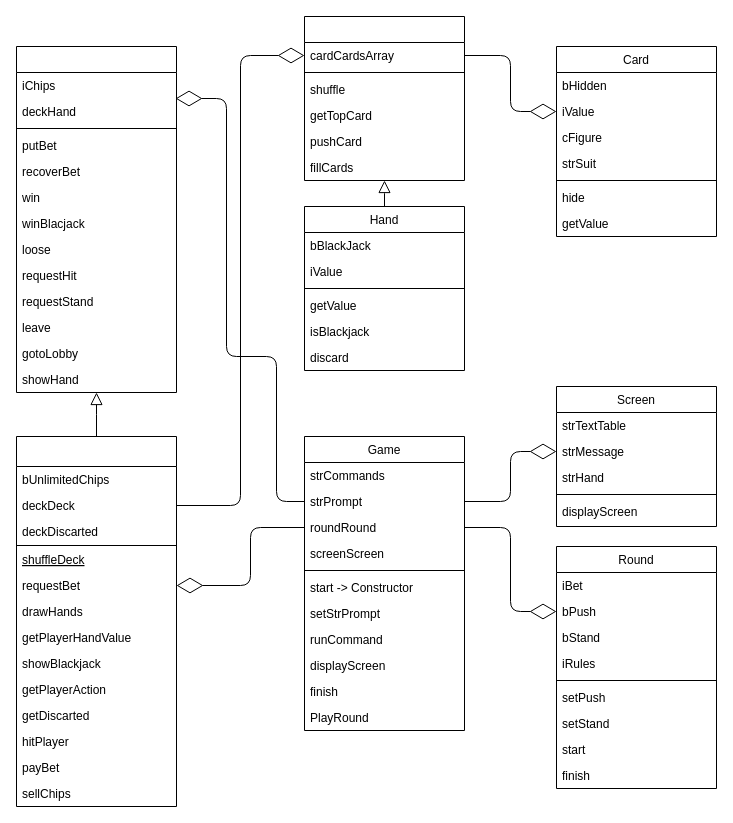
The diagram is 733 pixels wide and 823 high, and some of its shapes have lost their labels. Each missing label, with the box of its shape:
Dealer: (16, 436, 176, 806)
Deck: (304, 16, 464, 180)
Player: (16, 46, 176, 392)
